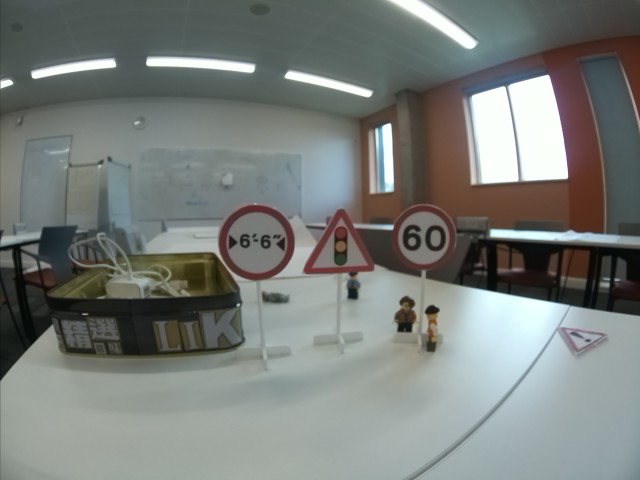60mph: (390, 205, 458, 270)
6ft6: (217, 204, 300, 278)
Lego Man: (392, 294, 420, 333), (425, 303, 439, 353), (257, 288, 292, 304), (346, 271, 359, 301)
Traffic lights: (302, 209, 379, 275)
Warning: (556, 326, 608, 357)
